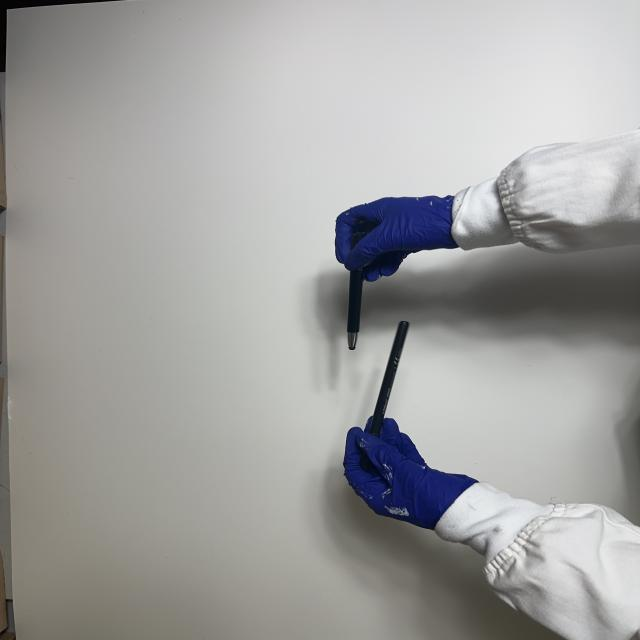gloves_contaminated: (344, 418, 477, 530), (335, 196, 458, 281)
